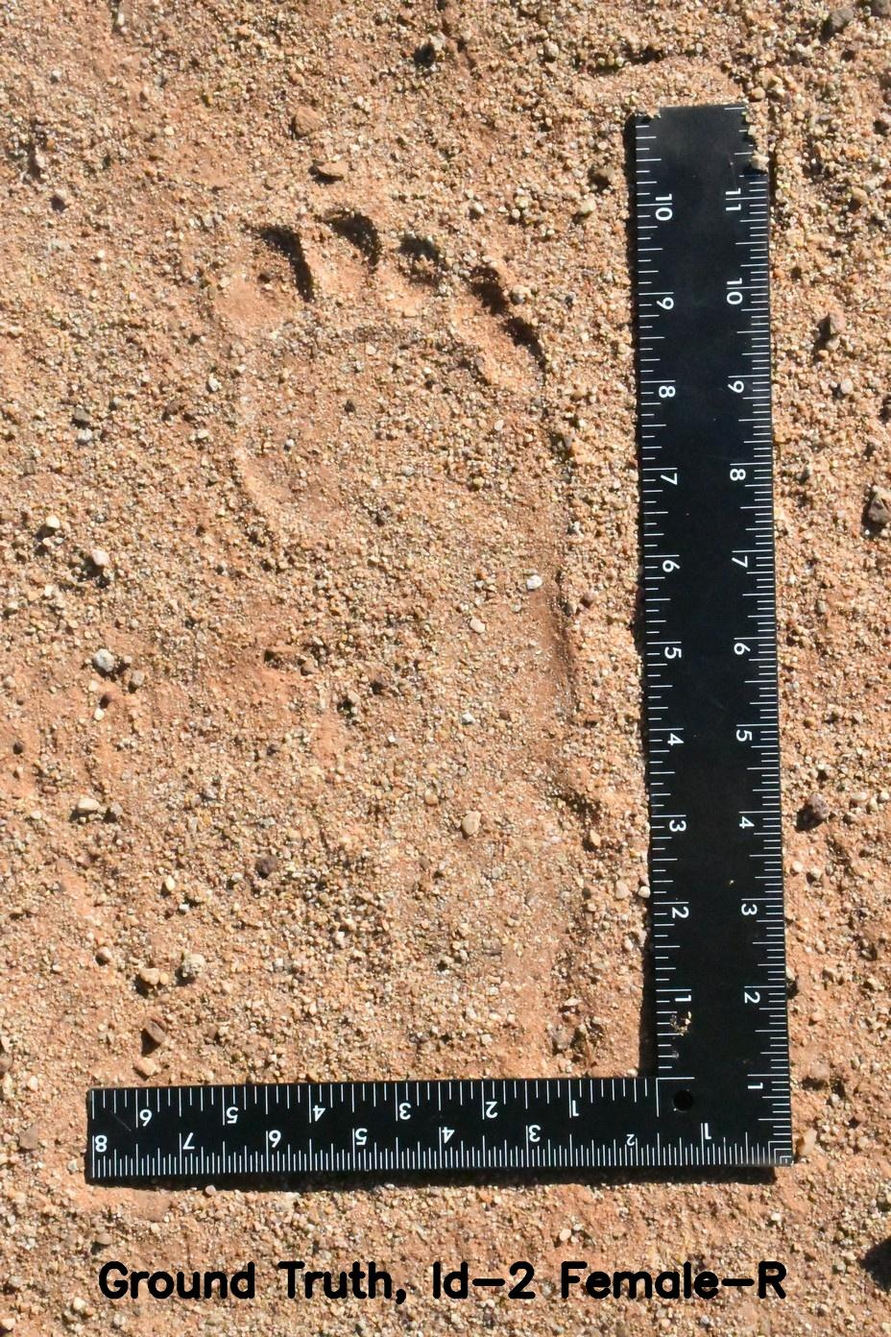human_foot_print: (190, 183, 627, 1050)
